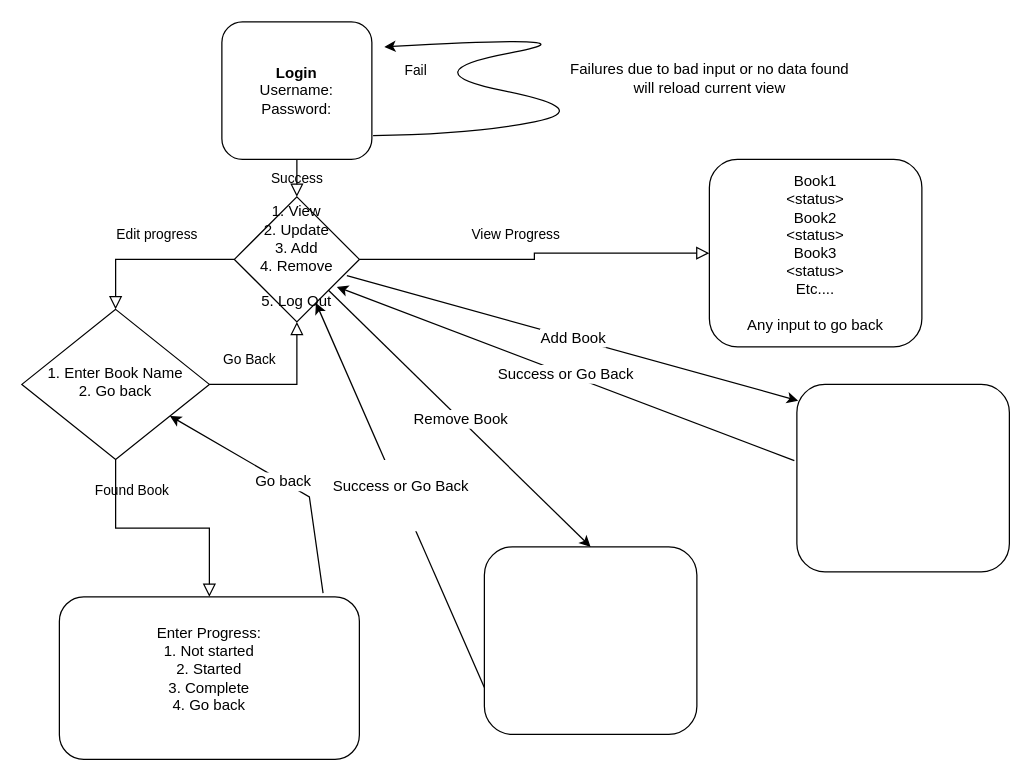
Image size: 1031x781. Some labels were removed from this diagram. Each missing label, with the centre of its shape:
"List of tracked Books by Name 1. Enter Name 2 Go back" belongs at point (590, 640).
"List of unadded Books by Name 1. Enter Name 2 Go back" belongs at point (902, 477).
